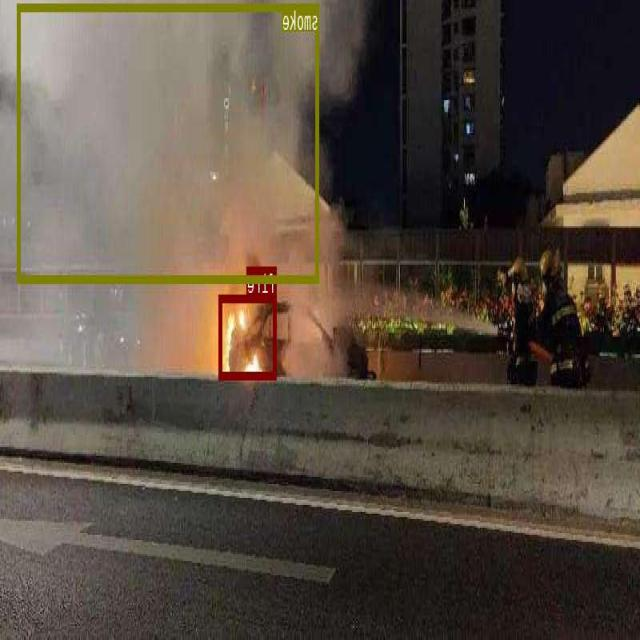fire: (220, 294, 277, 378)
smoke: (18, 3, 319, 281)
